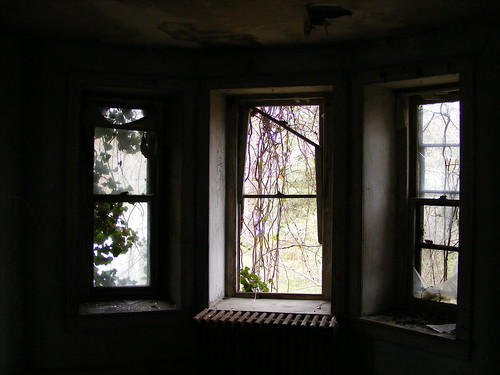window: (228, 97, 325, 297), (402, 95, 471, 308), (89, 97, 158, 294)
